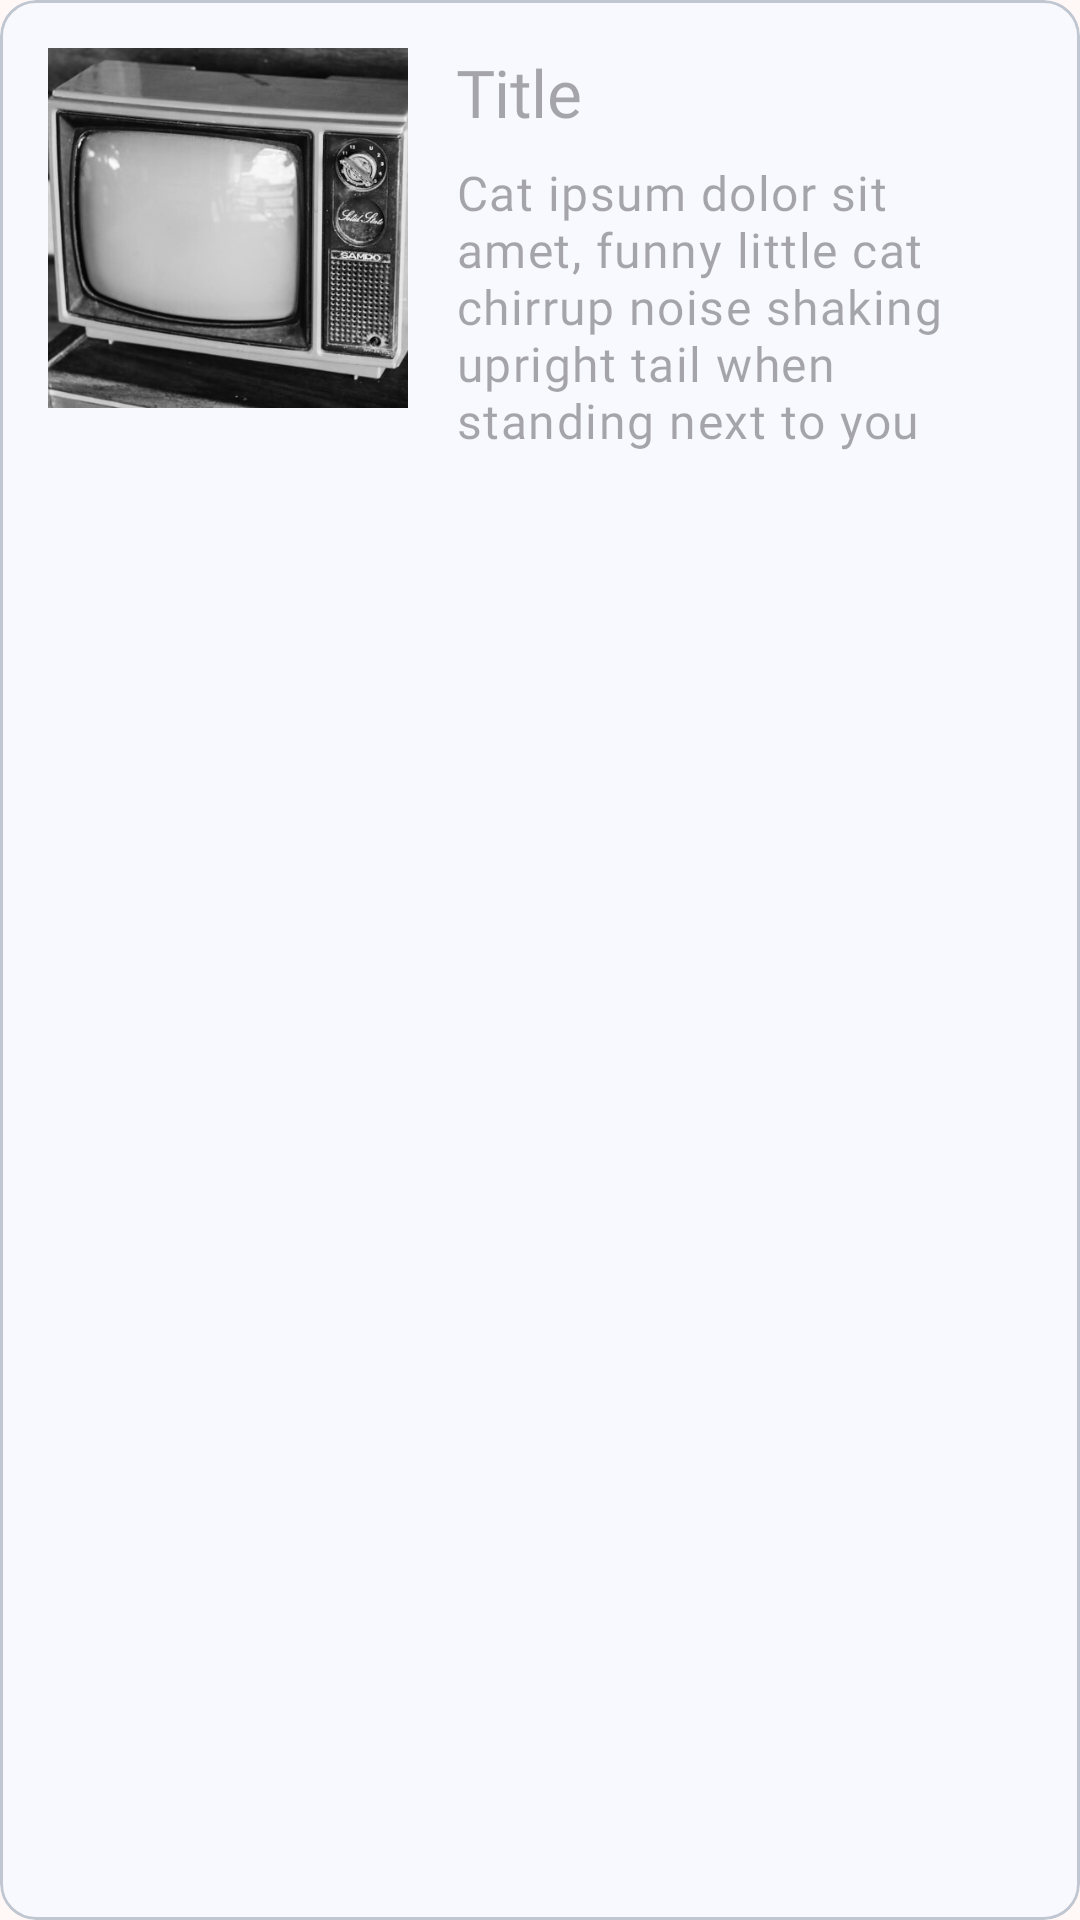

Icon click points for this 1080px x 1920px phone screenshot, format (x=x, y=y):
poster: (x=228, y=228)
